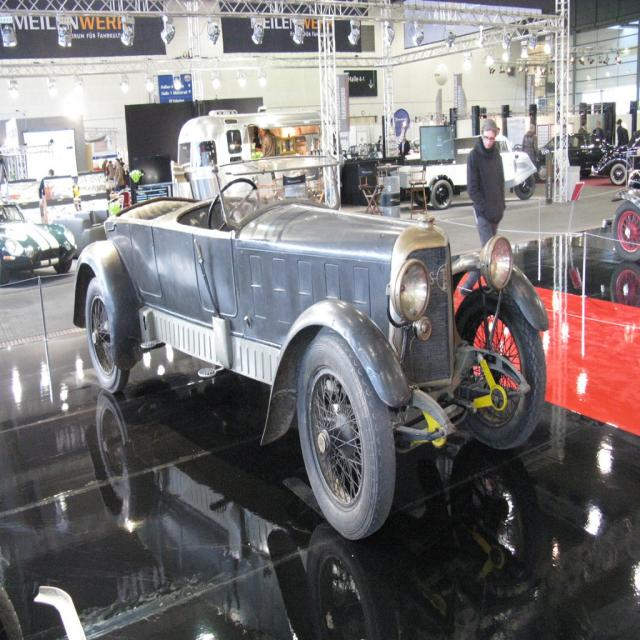car: (57, 159, 542, 554)
